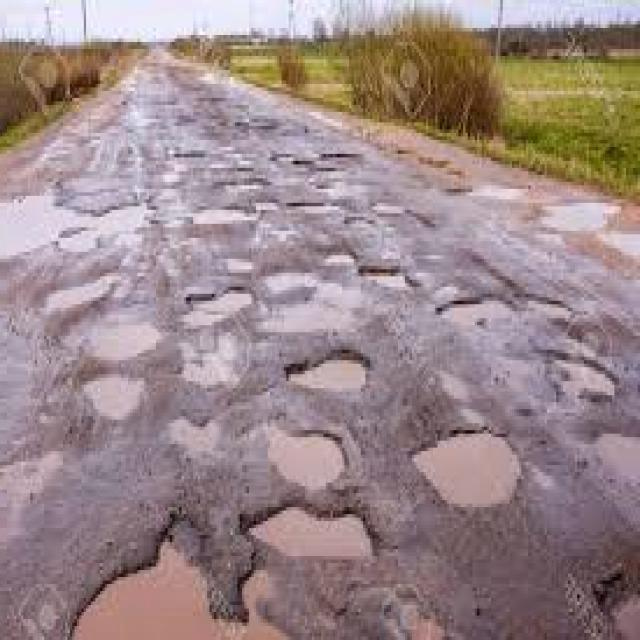pothole: (72, 541, 222, 640), (414, 434, 520, 506), (250, 508, 371, 558), (268, 430, 344, 490), (0, 196, 62, 258), (94, 322, 161, 361), (84, 375, 143, 419), (554, 360, 615, 401), (289, 360, 366, 392), (184, 294, 251, 329), (598, 434, 640, 482), (448, 302, 509, 328), (98, 208, 139, 234), (192, 209, 256, 225), (366, 272, 406, 288), (320, 154, 361, 158), (292, 162, 314, 165)
